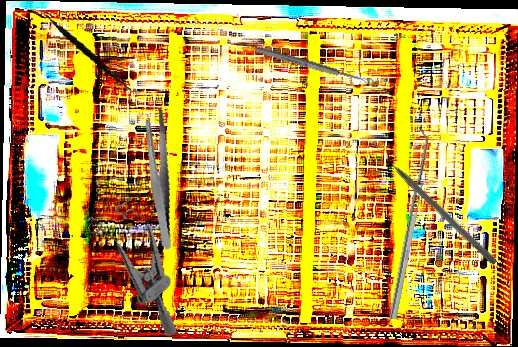Dressing Forceps: (123, 105, 196, 251)
Pusher: (374, 144, 499, 267)
Spatula Surgical: (20, 6, 154, 95), (381, 127, 434, 320)
Speculum: (71, 185, 218, 340)
Surgical Spoon: (253, 45, 375, 87)
